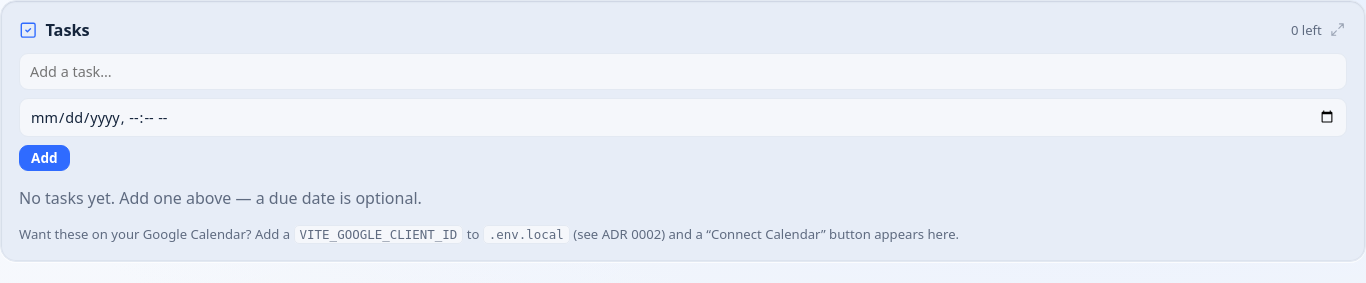
RemindersWidget working through the list › removes a task
Step 1. Type "Old task" into the field with placeholder "Add a task…" → (683, 72), box [19,53,1347,90]
Then press Enter
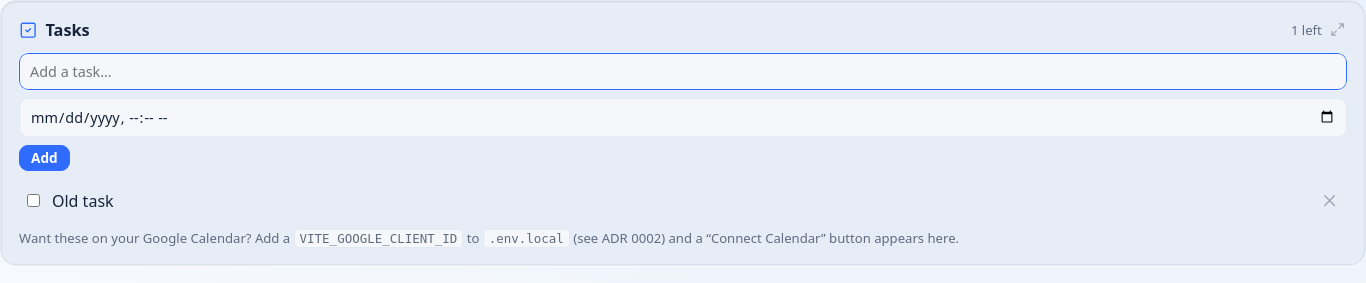
Step 2. Click the button titled "Delete" → click(1329, 201), box [1316,191,1343,210]
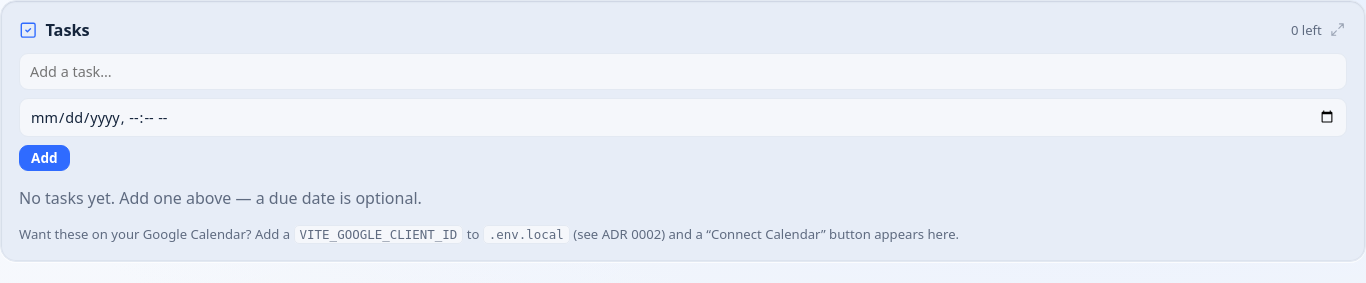
Result: the text "Old task" is gone
Result: the text "No tasks yet. Add one above — a due date is optional." is shown at [19,187,422,209]
